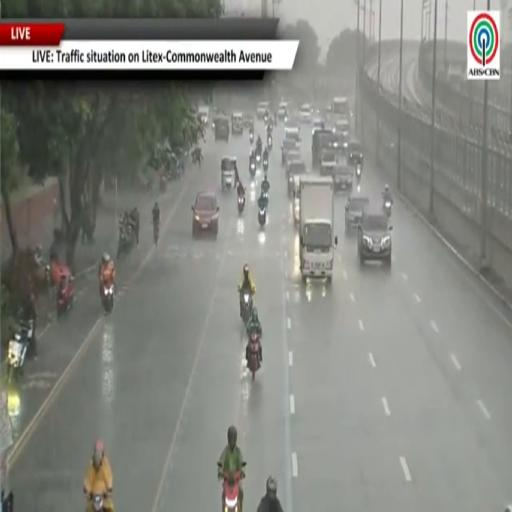bus: (333, 98, 350, 118)
car: (358, 211, 392, 266), (192, 191, 219, 236), (312, 131, 336, 168), (345, 197, 369, 232), (286, 159, 307, 195), (333, 164, 353, 190), (221, 156, 236, 190), (282, 139, 299, 165), (347, 140, 363, 167), (284, 149, 302, 170), (214, 117, 229, 141), (294, 175, 300, 225), (333, 119, 350, 136), (321, 149, 337, 166), (285, 126, 300, 143), (299, 104, 312, 123), (232, 112, 243, 134), (285, 115, 300, 131), (198, 106, 209, 125), (312, 119, 325, 135), (257, 102, 269, 119), (277, 102, 288, 120), (243, 114, 254, 130)
motorcycle: (7, 320, 34, 383), (87, 479, 112, 511), (222, 472, 242, 511), (57, 275, 74, 316), (248, 333, 261, 381), (117, 224, 134, 257), (240, 291, 253, 324), (102, 282, 114, 313), (91, 494, 104, 511), (258, 206, 266, 227), (383, 200, 392, 217), (160, 175, 168, 193), (238, 196, 246, 214), (153, 222, 159, 246), (261, 190, 269, 207), (249, 162, 256, 178), (356, 165, 362, 182), (255, 152, 262, 166), (267, 134, 273, 150), (248, 132, 254, 145), (263, 158, 268, 171), (264, 115, 268, 124), (284, 115, 288, 123)
truck: (299, 175, 337, 282)
